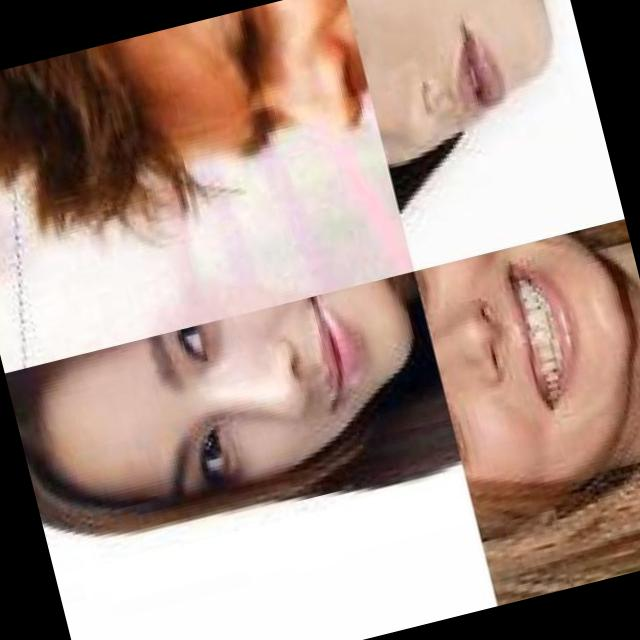bareface: (15, 269, 409, 534)
